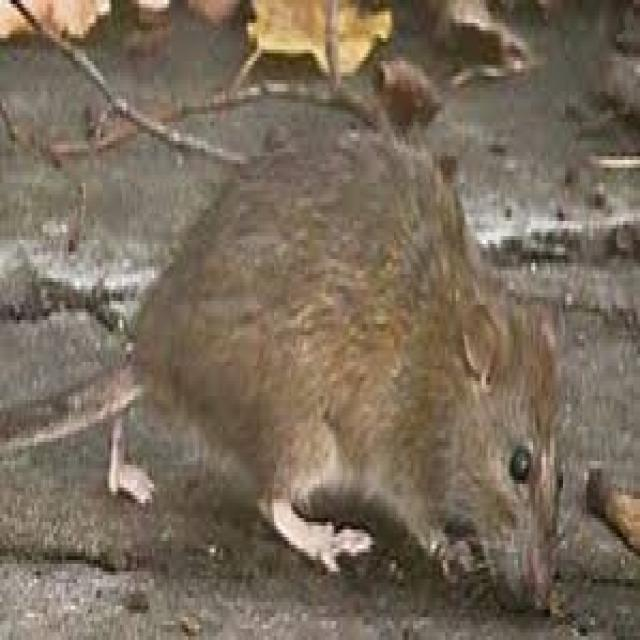Rat: (69, 93, 626, 602)
